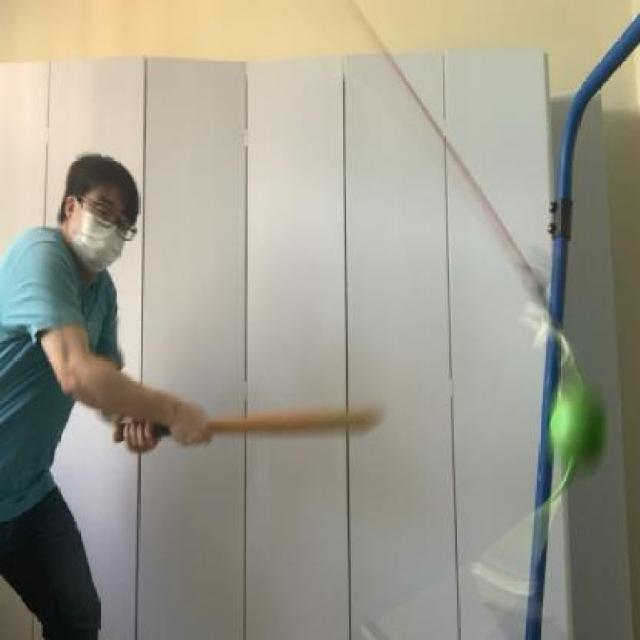baseball: (548, 381, 607, 464)
